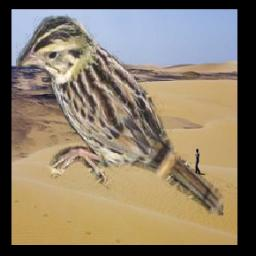Sparrow: (17, 15, 224, 216)
